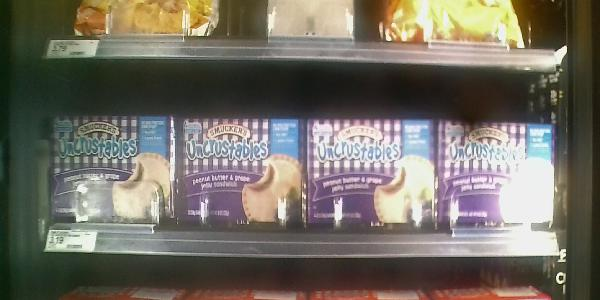icecream: (303, 111, 442, 249), (176, 106, 306, 244), (44, 108, 176, 237), (442, 111, 558, 246)
